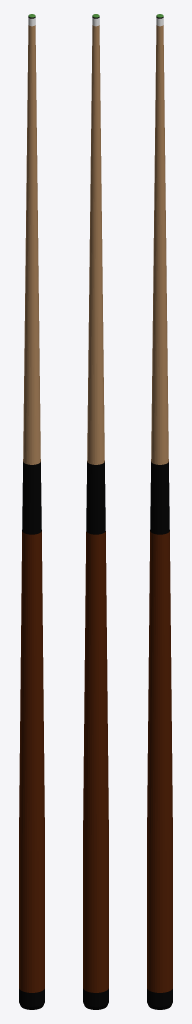
Rendered from PoolCue.glb.
3 renders of one model, left to right at view 1: azimuth 90°, elevation 25°; view 2: azimuth 150°, elevation 25°; view 3: azimuth 270°, elevation 25°, orthographic.
Parts seen in each view (by area): view 1: Cue-rigid; view 2: Cue-rigid; view 3: Cue-rigid.
Boxes of the visible parts, left/top/right/bottom form: Cue-rigid: left=19, top=14, right=44, bottom=1009; Cue-rigid: left=83, top=14, right=108, bottom=1009; Cue-rigid: left=147, top=14, right=172, bottom=1009.
Size of the model in its own units: 0.36 by 15 by 0.36.
Materials: 1 (1 with a texture image).
